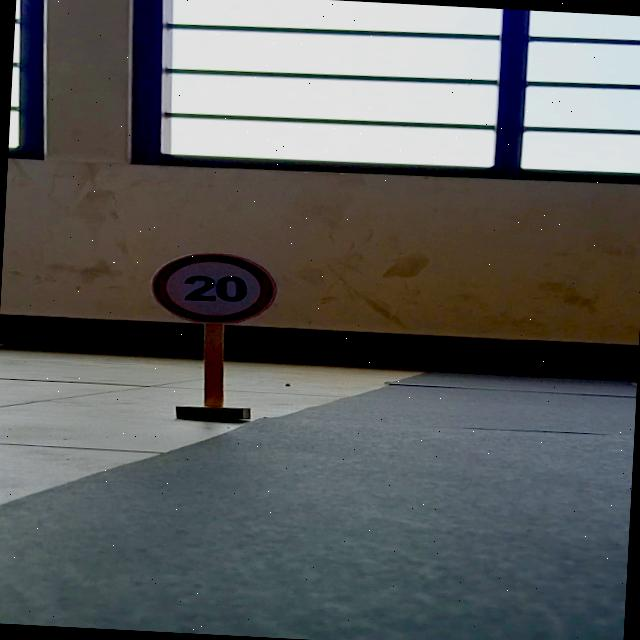Speed20: (140, 245, 288, 332)
